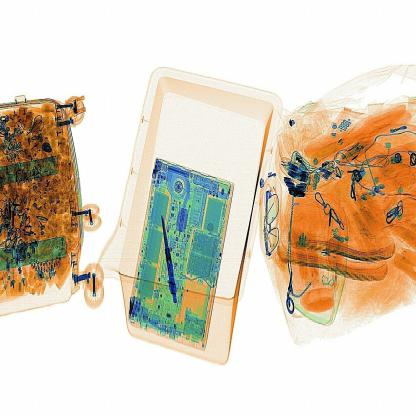gun: (153, 206, 188, 306)
